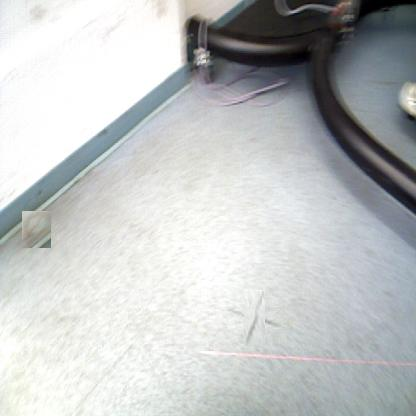mark: (235, 299, 274, 337), (21, 210, 51, 248)
